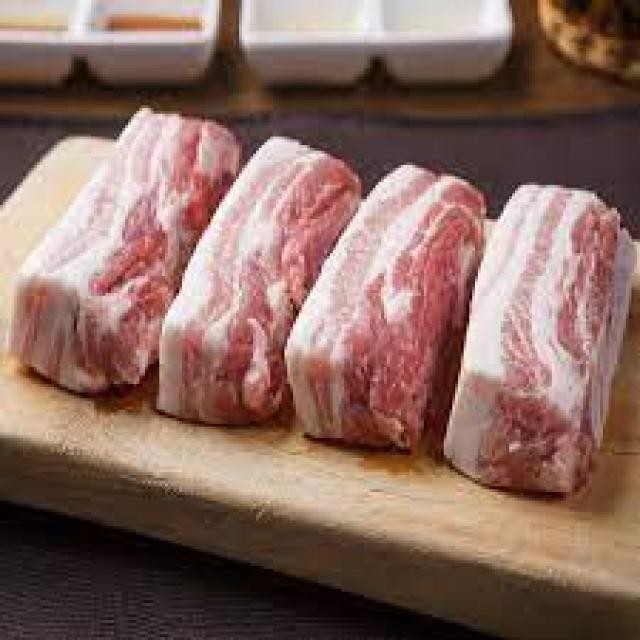Pork: (11, 110, 242, 393), (159, 137, 364, 427), (448, 185, 638, 494), (287, 165, 486, 455)
